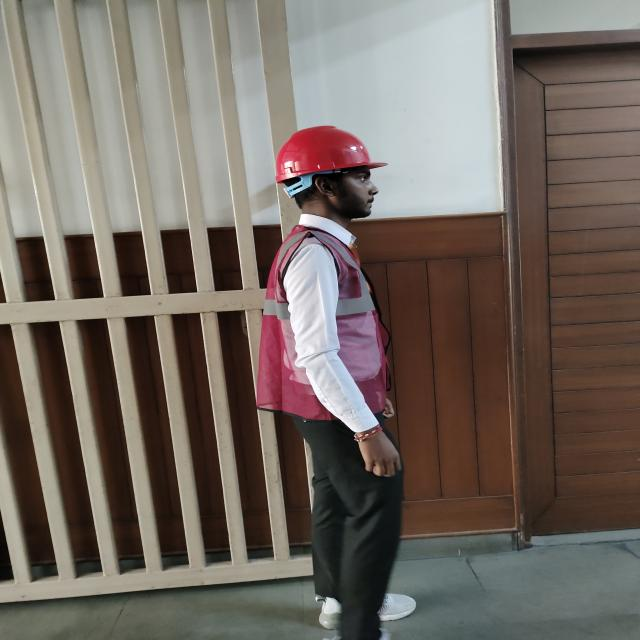safe: (256, 127, 405, 640)
